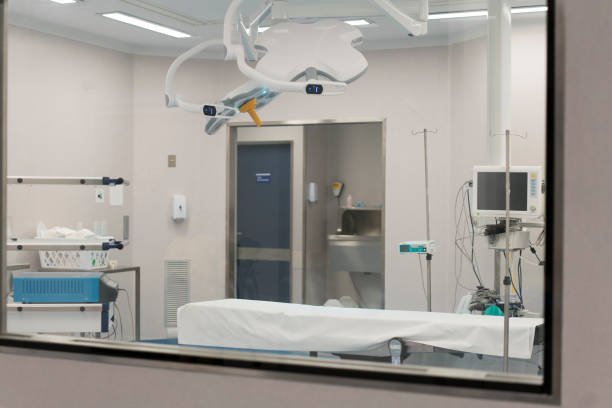bedside_monitor: (472, 166, 542, 219)
dispenser: (172, 194, 186, 221)
door_handle: (226, 225, 253, 241)
electrosurgical_unit: (11, 268, 120, 306)
iv_pole: (491, 131, 528, 376), (411, 129, 437, 310)
operating_bed: (175, 297, 545, 376)
surgical_light: (227, 11, 369, 125)
syringe_pump: (397, 238, 439, 257)
